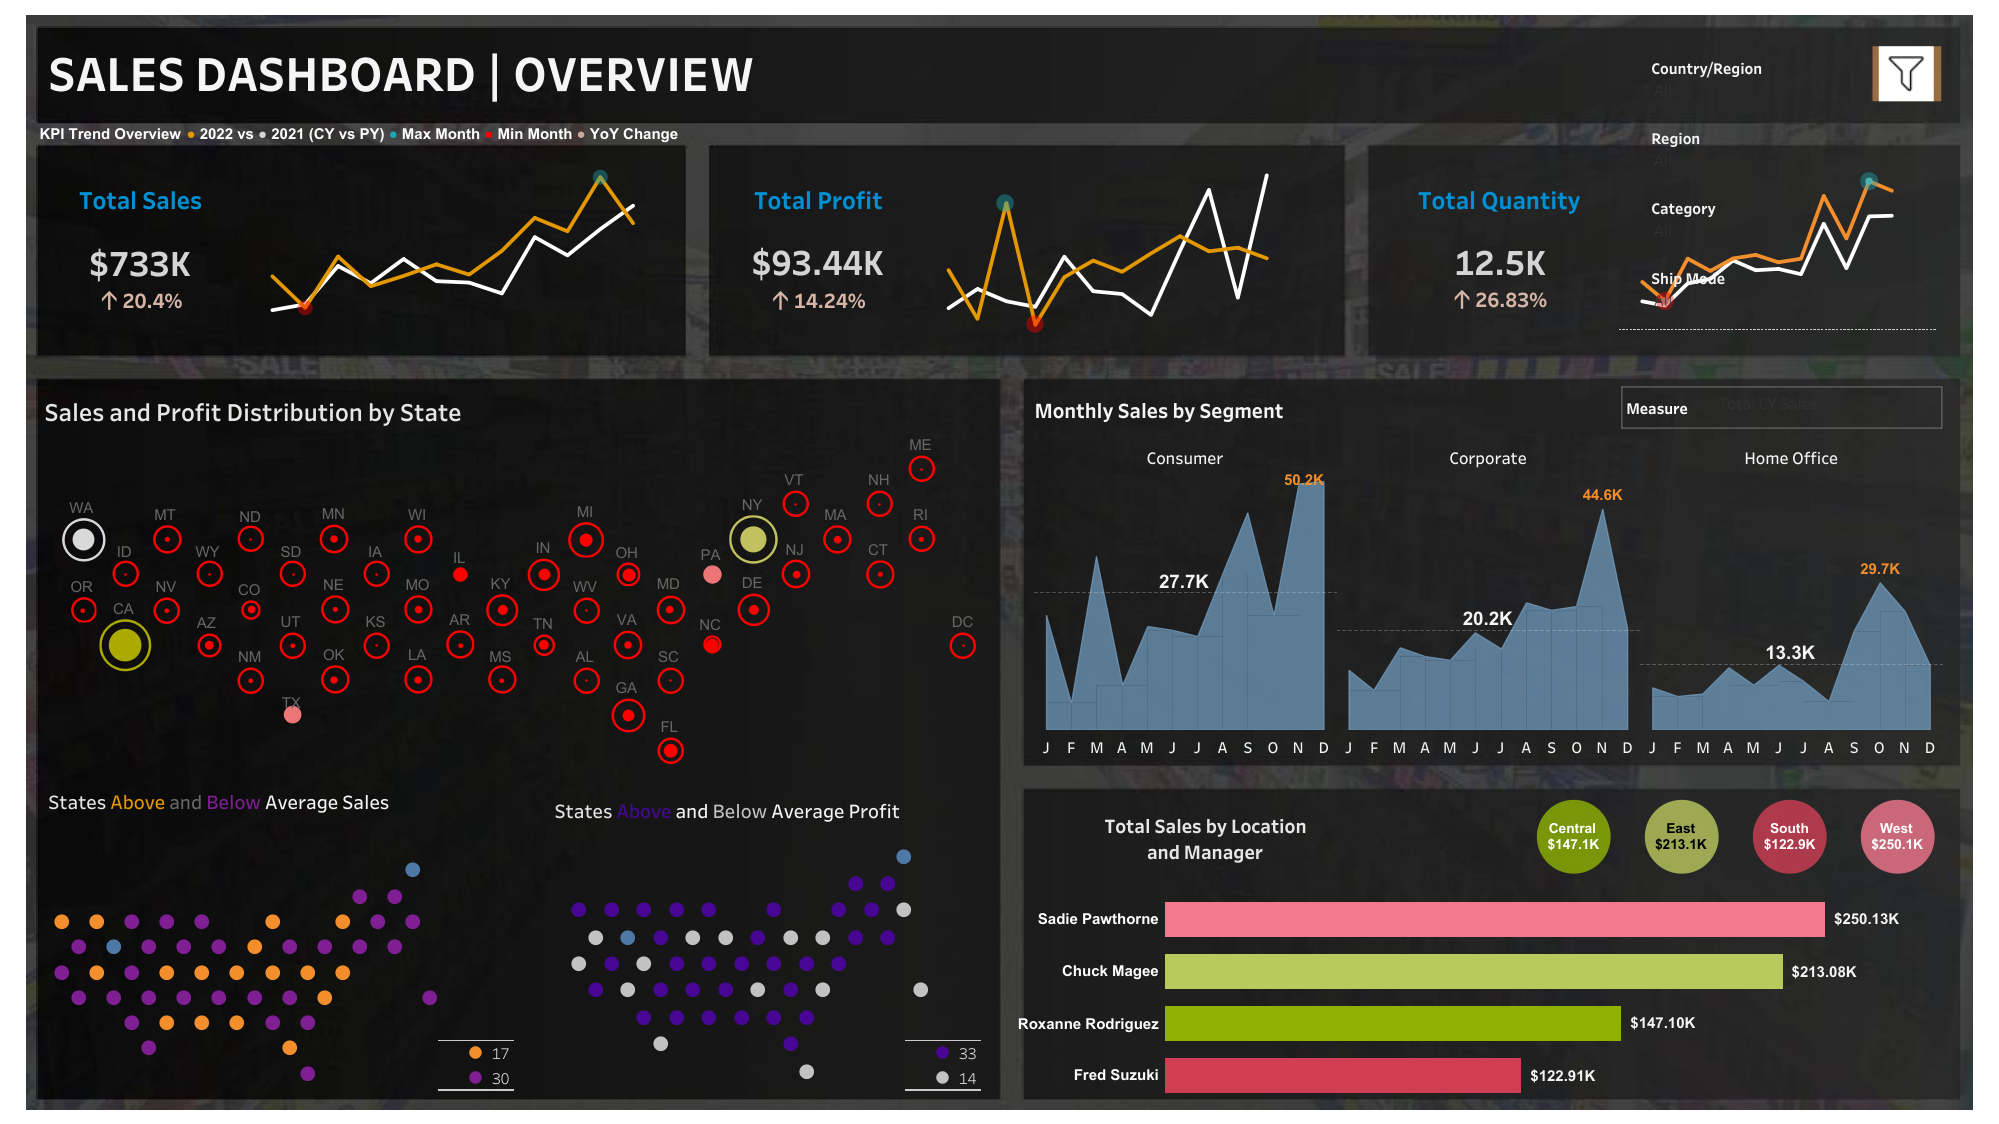

Layout of this report page (visuals, bound fields, positions):
{"tool":"tableau","page":{"name":"Dashboard 1","canvas":[1600,900],"ordinal":0},"visuals":[{"type":"image","param":"Image/Sales Dashboard Background.pptx (1).jpg","box":[8,8,1584,884]},{"type":"text","box":[36,24,726,66]},{"type":"dashboard-object","box":[1498,37,55,44]},{"type":"filter","title":"Sales and Profit by State","param":"[federated.0pxl6x00b0imcm1fhv3ih1l05isb].[none:Country/Region:nk]","box":[1317,40,169,61]},{"type":"text","box":[29,92,655,29]},{"type":"filter","title":"Sales and Profit by State","param":"[federated.0pxl6x00b0imcm1fhv3ih1l05isb].[none:Region:nk]","box":[1317,101,169,61]},{"type":"worksheet","title":"Sales KPI","mark":"Automatic","box":[39,126,148,145]},{"type":"worksheet","title":"Sales Sparkline","mark":"Automatic","rows":["Calculation_73183555306594320"],"cols":["Order Date"],"box":[187,126,349,145]},{"type":"worksheet","title":"Sales Profit","mark":"Automatic","box":[579,128,152,142]},{"type":"worksheet","title":"Profit Sparkline ","mark":"Automatic","rows":["MIN MAX MONTH (copy)_73183555310788625"],"cols":["Order Date"],"box":[731,128,332,142]},{"type":"worksheet","title":"Quantity KPI","mark":"Automatic","box":[1110,129,181,139]},{"type":"worksheet","title":"Quantity Sparkline ","mark":"Automatic","rows":["MIN MAX PROFIT (copy)_73183555314466834"],"cols":["Order Date"],"box":[1291,129,262,139]},{"type":"filter","title":"Sales and Profit by State","param":"[federated.0pxl6x00b0imcm1fhv3ih1l05isb].[none:Category:nk]","box":[1317,162,169,61]},{"type":"filter","title":"Sales and Profit by State","param":"[federated.0pxl6x00b0imcm1fhv3ih1l05isb].[none:Ship Mode:nk]","box":[1317,223,169,61]},{"type":"text","box":[33,304,419,50]},{"type":"parameter","param":"[Parameters].[Parameter 1]","box":[1297,309,257,34]},{"type":"text","box":[825,312,422,30]},{"type":"worksheet","title":"Sales and Profit by State","mark":"Circle","rows":["Row"],"cols":["Column","Column"],"box":[14,347,802,281]},{"type":"worksheet","title":"Monthly Sales by Segment","mark":"Area","rows":["Calculation_73183555989409818"],"cols":["Segment","Order Date"],"box":[827,355,727,251]},{"type":"text","box":[36,623,342,36]},{"type":"text","box":[441,633,339,30]},{"type":"worksheet","title":"Total Sales by Region","mark":"Circle","cols":["Region (People)"],"box":[1216,636,345,66]},{"type":"text","box":[822,639,285,62]},{"type":"worksheet","title":"Avg Profit by State ","mark":"Circle","rows":["Row"],"cols":["Column"],"box":[443,664,313,214]},{"type":"worksheet","title":"Avg Sales by State","mark":"Circle","rows":["Row"],"cols":["Column"],"box":[28,676,337,203]},{"type":"worksheet","title":"Local Sales by Regional Manager","mark":"Automatic","rows":["Regional Manager"],"cols":["Country/Region","Sales"],"box":[812,714,738,167]},{"type":"worksheet","title":"Total Above and Below Avg Sale","mark":"Circle","rows":["Calculation_73183555632967701"],"box":[350,832,71,46]},{"type":"worksheet","title":"Total Above and Below Avg Profit","mark":"Circle","rows":["Avg Sales Color (copy)_73183555635388438"],"box":[724,832,93,55]}]}

Visuals, with their boxes in screenshot pixels (x1, y1, x2, y2), scaled from the page's 1600x900 canvas onto the 1999x1124 screenshot:
image: (x1=10, y1=10, x2=1989, y2=1114)
text: (x1=45, y1=30, x2=952, y2=112)
dashboard-object: (x1=1872, y1=46, x2=1940, y2=101)
"Sales and Profit by State" filter: (x1=1645, y1=50, x2=1857, y2=126)
text: (x1=36, y1=115, x2=855, y2=151)
"Sales and Profit by State" filter: (x1=1645, y1=126, x2=1857, y2=202)
"Sales KPI" worksheet: (x1=49, y1=157, x2=234, y2=338)
"Sales Sparkline" worksheet: (x1=234, y1=157, x2=670, y2=338)
"Sales Profit" worksheet: (x1=723, y1=160, x2=913, y2=337)
"Profit Sparkline " worksheet: (x1=913, y1=160, x2=1328, y2=337)
"Quantity KPI" worksheet: (x1=1387, y1=161, x2=1613, y2=335)
"Quantity Sparkline " worksheet: (x1=1613, y1=161, x2=1940, y2=335)
"Sales and Profit by State" filter: (x1=1645, y1=202, x2=1857, y2=279)
"Sales and Profit by State" filter: (x1=1645, y1=279, x2=1857, y2=355)
text: (x1=41, y1=380, x2=565, y2=442)
parameter: (x1=1620, y1=386, x2=1942, y2=428)
text: (x1=1031, y1=390, x2=1558, y2=427)
"Sales and Profit by State" worksheet (Circle marks): (x1=17, y1=433, x2=1019, y2=784)
"Monthly Sales by Segment" worksheet (Area marks): (x1=1033, y1=443, x2=1942, y2=757)
text: (x1=45, y1=778, x2=472, y2=823)
text: (x1=551, y1=791, x2=975, y2=828)
"Total Sales by Region" worksheet (Circle marks): (x1=1519, y1=794, x2=1950, y2=877)
text: (x1=1027, y1=798, x2=1383, y2=875)
"Avg Profit by State " worksheet (Circle marks): (x1=553, y1=829, x2=945, y2=1097)
"Avg Sales by State" worksheet (Circle marks): (x1=35, y1=844, x2=456, y2=1098)
"Local Sales by Regional Manager" worksheet: (x1=1014, y1=892, x2=1937, y2=1100)
"Total Above and Below Avg Sale" worksheet (Circle marks): (x1=437, y1=1039, x2=526, y2=1097)
"Total Above and Below Avg Profit" worksheet (Circle marks): (x1=905, y1=1039, x2=1021, y2=1108)
